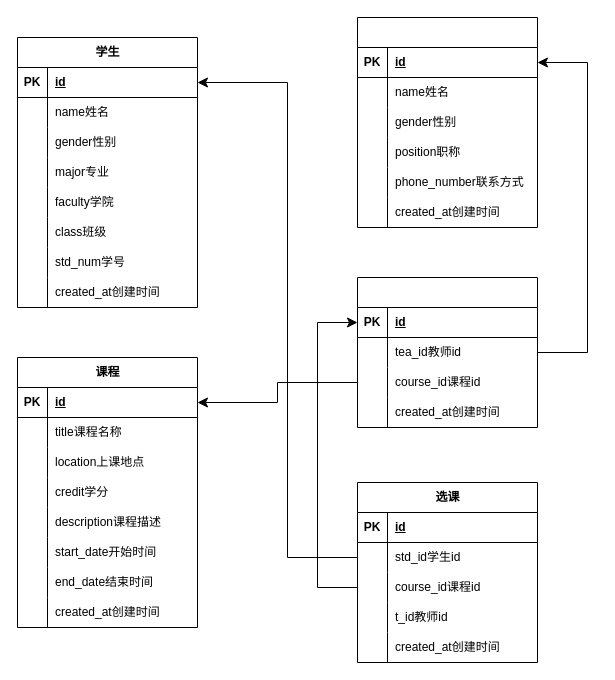
Image size: 615x680. Some labels were removed from this diagram. Here are the shapes that lost their labels. From the top down, the box of each, then its label:
(356, 16, 538, 228): 教师
(356, 276, 538, 428): course_teacher
